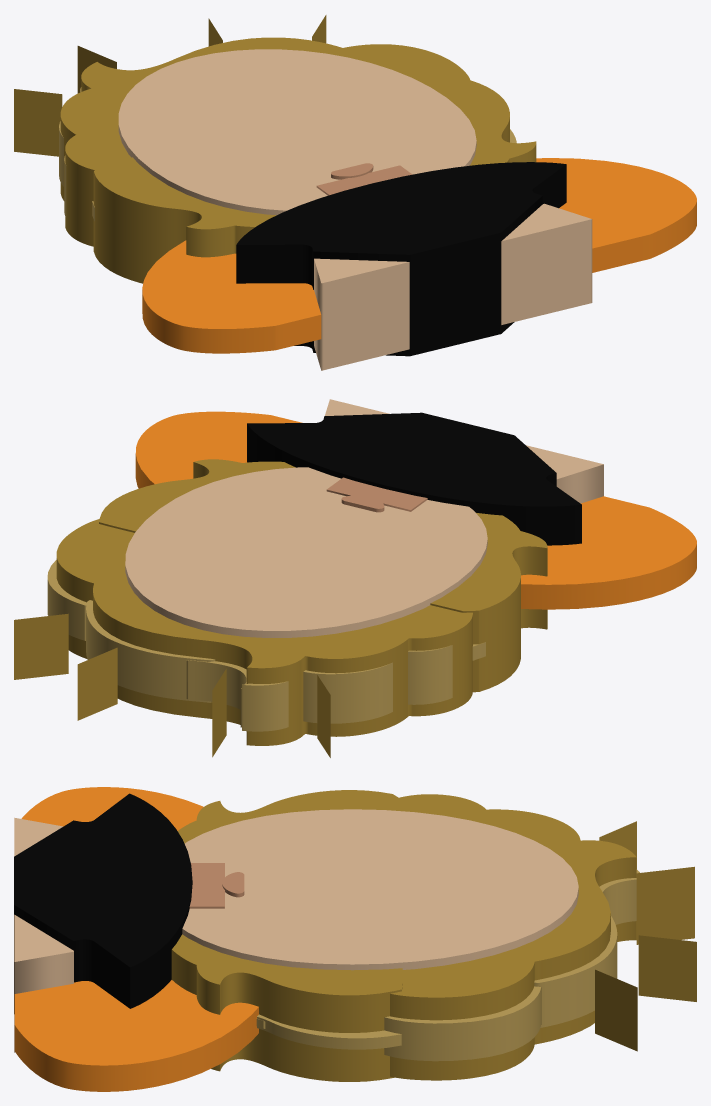
The model's file is emoji_u1f647_1f3fc.glb.
3 views of the same model, one above another, from view 1: azimuth 30°, elevation 25°; view 2: azimuth 150°, elevation 25°; view 3: azimuth 270°, elevation 25° (orthographic). The views are drawn at different scales.
Visible parts, largest first — view 1: emoji_u1f647_1f3fc; view 2: emoji_u1f647_1f3fc; view 3: emoji_u1f647_1f3fc.
Boxes of the visible parts, <box> form: emoji_u1f647_1f3fc: <box>14,15,696,370</box>; emoji_u1f647_1f3fc: <box>14,399,696,757</box>; emoji_u1f647_1f3fc: <box>14,787,696,1091</box>.
Size of the model in its own units: 0.0317 by 0.0058 by 0.0328.
